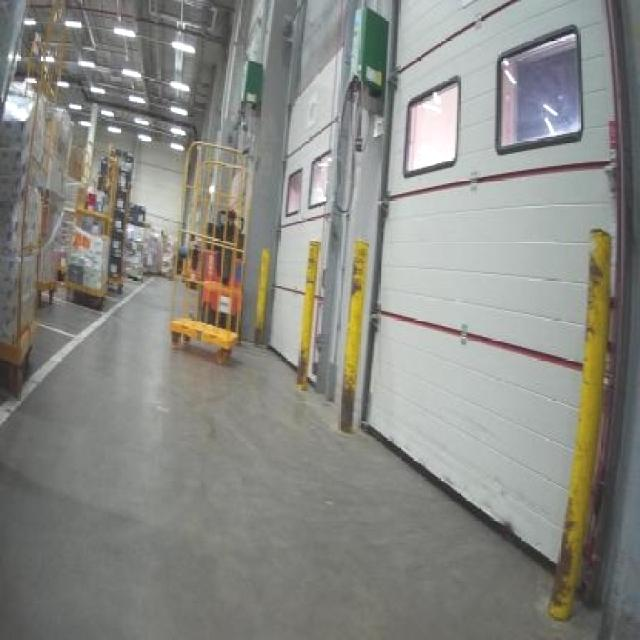floor: (0, 278, 594, 637)
pallets: (169, 317, 235, 360)
